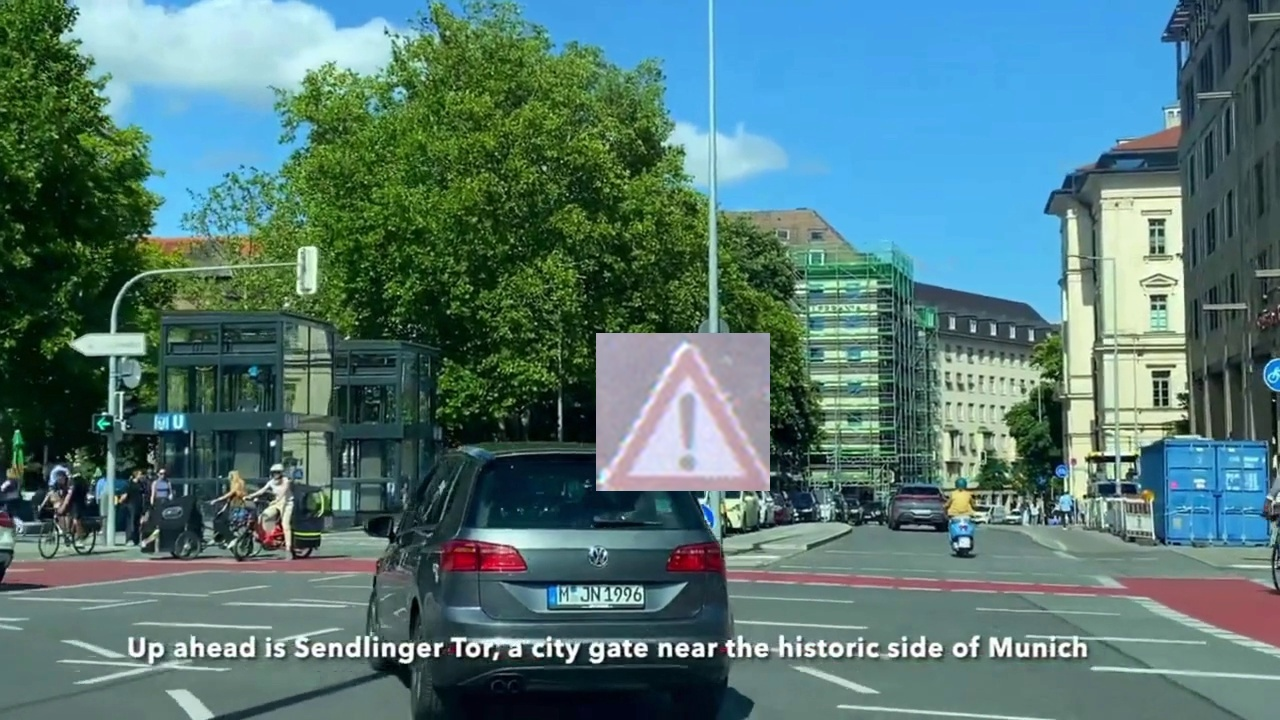Caution: (596, 333, 770, 491)
